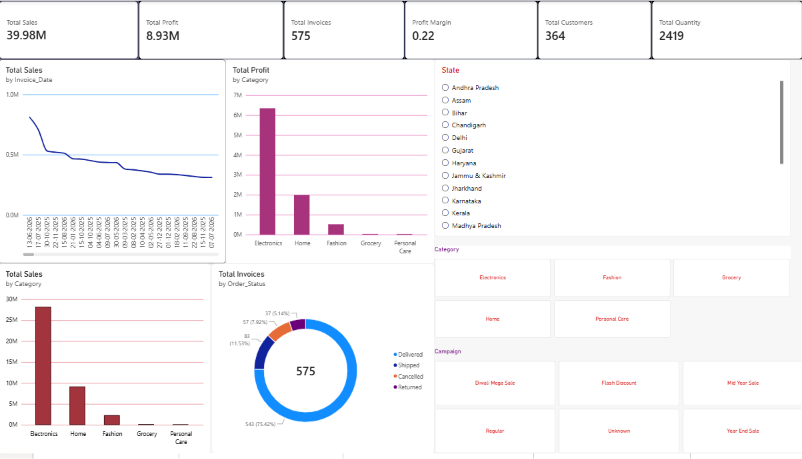

What the dashboard file says about the page in this screenshot:
{"tool":"powerbi","page":{"name":"Executive Overview","canvas":[1920,1080],"ordinal":0},"visuals":[{"type":"cardVisual","fields":{"Data":["Invoice_Data.Total Sales"]},"box":[0,0,334,140.8],"z":0},{"type":"cardVisual","fields":{"Data":["Invoice_Data.Total Profit"]},"box":[334,0,346,140.8],"z":1},{"type":"cardVisual","fields":{"Data":["Invoice_Data.Profit Margin"]},"box":[968.7,0,317.3,140.8],"z":2},{"type":"cardVisual","fields":{"Data":["Invoice_Data.Total Invoices"]},"box":[680,0,288.7,140.8],"z":3},{"type":"cardVisual","fields":{"Data":["Invoice_Data.Total Customers"]},"box":[1286,0,272,140.8],"z":4},{"type":"lineChart","fields":{"Category":["Invoice_Data.Invoice_Date"],"Y":["Invoice_Data.Total Sales"]},"box":[0,140.8,542,486],"z":6},{"type":"clusteredColumnChart","fields":{"Category":["Invoice_Data.Category"],"Y":["Invoice_Data.Total Sales"]},"box":[0,627.5,506,454],"z":7},{"type":"clusteredColumnChart","fields":{"Category":["Invoice_Data.Category"],"Y":["Invoice_Data.Total Profit"]},"box":[541.6,140.8,498.7,486.7],"z":8},{"type":"donutChart","fields":{"Category":["Invoice_Data.Order_Status"],"Y":["Invoice_Data.Total Invoices"]},"box":[508.2,627.5,532.1,453.3],"z":9},{"type":"listSlicer","fields":{"Values":["Invoice_Data.State"]},"box":[1040.3,140.8,849.4,422.3],"z":10},{"type":"advancedSlicerVisual","fields":{"Values":["Invoice_Data.Category"]},"box":[1040.3,584.5,849.4,221.9],"z":11},{"type":"advancedSlicerVisual","fields":{"Values":["Invoice_Data.Campaign"]},"box":[1040.3,827.9,880.4,252.9],"z":12},{"type":"cardVisual","fields":{"Data":["Invoice_Data.Total Quantity"]},"box":[1558,0,362.7,140.8],"z":13}]}

Visuals, with their boxes in screenshot pixels (x1, y1, x2, y2), scaled from the page's 1920x1080 canvas onto the 802x459 screenshot:
cardVisual - Invoice_Data.Total Sales: box(0, 0, 140, 60)
cardVisual - Invoice_Data.Total Profit: box(140, 0, 284, 60)
cardVisual - Invoice_Data.Profit Margin: box(405, 0, 537, 60)
cardVisual - Invoice_Data.Total Invoices: box(284, 0, 405, 60)
cardVisual - Invoice_Data.Total Customers: box(537, 0, 651, 60)
lineChart - Invoice_Data.Invoice_Date x Invoice_Data.Total Sales: box(0, 60, 226, 266)
clusteredColumnChart - Invoice_Data.Category x Invoice_Data.Total Sales: box(0, 267, 211, 458)
clusteredColumnChart - Invoice_Data.Category x Invoice_Data.Total Profit: box(226, 60, 435, 267)
donutChart - Invoice_Data.Order_Status x Invoice_Data.Total Invoices: box(212, 267, 435, 458)
listSlicer - Invoice_Data.State: box(435, 60, 789, 239)
advancedSlicerVisual - Invoice_Data.Category: box(435, 248, 789, 343)
advancedSlicerVisual - Invoice_Data.Campaign: box(435, 352, 801, 458)
cardVisual - Invoice_Data.Total Quantity: box(651, 0, 801, 60)
